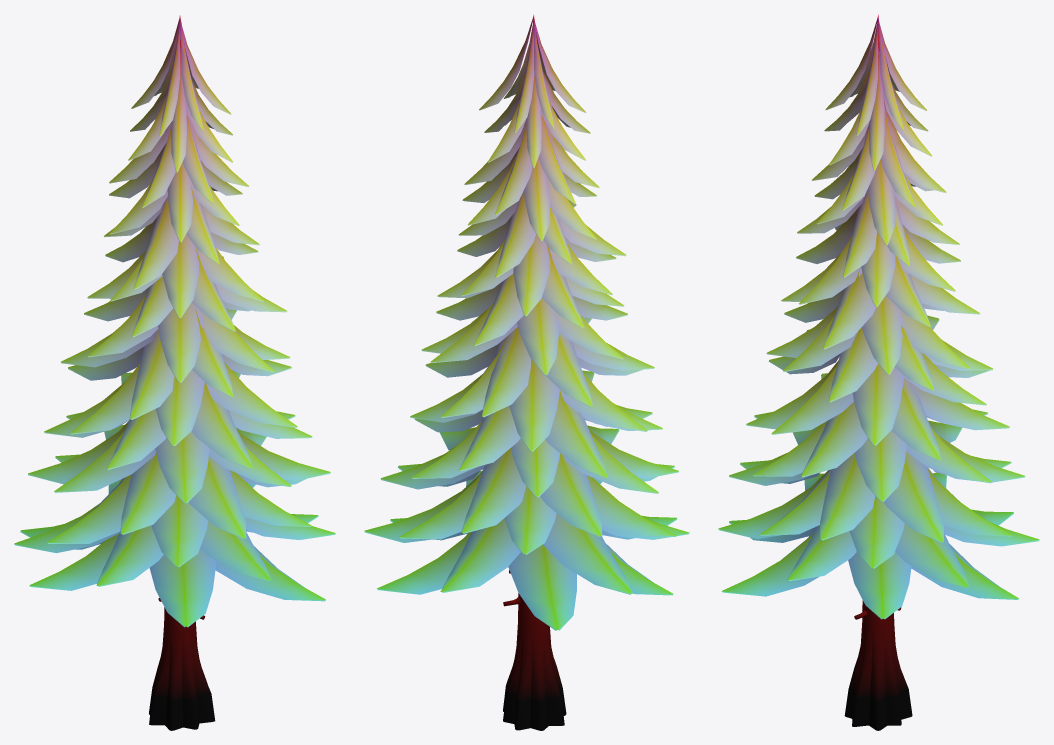
Rendered from Tree_C1_10m_1a.fbx.
The picture shows the model from 3 angles, left to right: view 1: azimuth 30°, elevation 25°; view 2: azimuth 150°, elevation 25°; view 3: azimuth 270°, elevation 25°; orthographic projection.
Visible parts, largest first — view 1: Tree_C1_10m_1a_LOD0; view 2: Tree_C1_10m_1a_LOD0; view 3: Tree_C1_10m_1a_LOD0.
Part boxes in pixels (x1,y1,x2,y2): Tree_C1_10m_1a_LOD0: [14, 15, 335, 730]; Tree_C1_10m_1a_LOD0: [364, 14, 689, 730]; Tree_C1_10m_1a_LOD0: [718, 14, 1039, 730].
Size of what is drawn, in the model's own units: 4.42 by 10.4 by 4.31.
